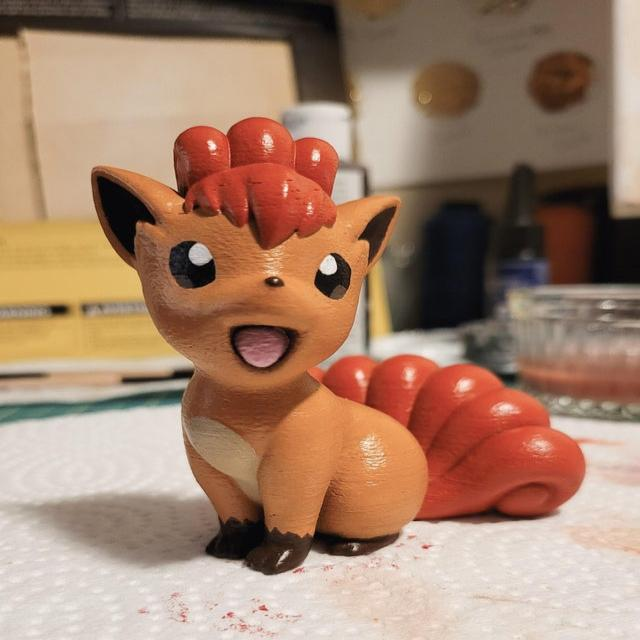Without deffect: (77, 117, 603, 582)
